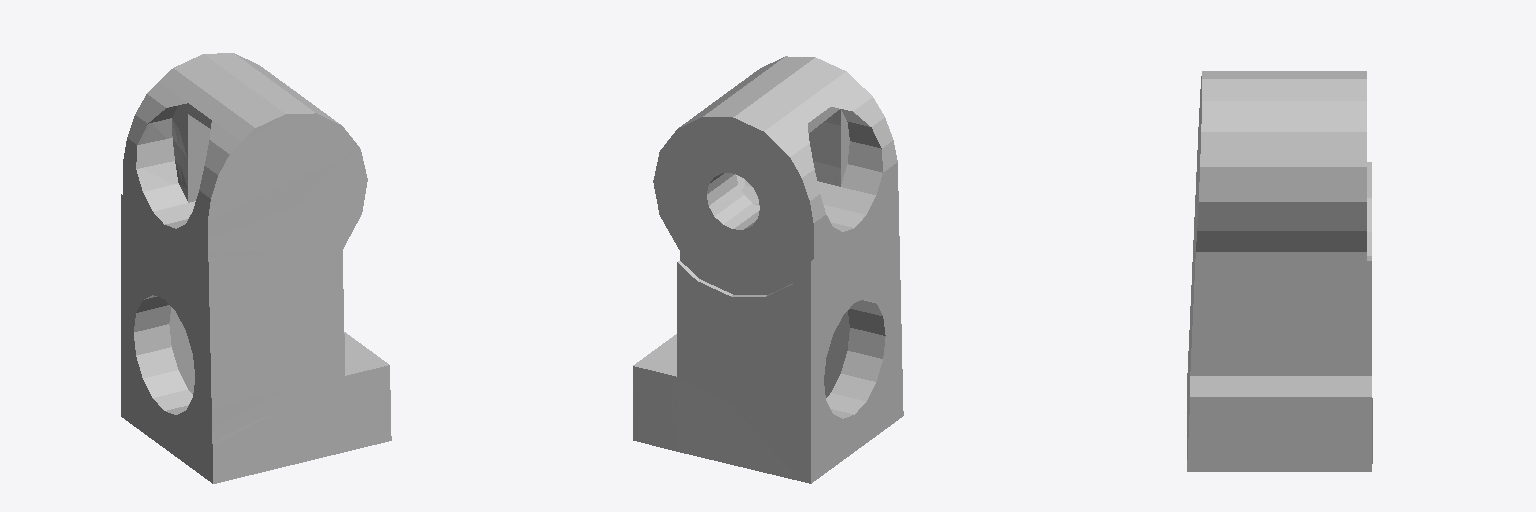
The model's file is rPie.obj.
3 views of the same model, side by side, from view 1: azimuth 30°, elevation 25°; view 2: azimuth 150°, elevation 25°; view 3: azimuth 270°, elevation 25° (orthographic).
Parts seen in each view (by area): view 1: rPie4:pasted__pasted__lleg16pasted__pasted__legocharacter2pasted; view 2: rPie4:pasted__pasted__lleg16pasted__pasted__legocharacter2pasted; view 3: rPie4:pasted__pasted__lleg16pasted__pasted__legocharacter2pasted.
Part boxes in pixels (x1,y1,x2,y2): rPie4:pasted__pasted__lleg16pasted__pasted__legocharacter2pasted: (121,53,391,483); rPie4:pasted__pasted__lleg16pasted__pasted__legocharacter2pasted: (633,56,903,483); rPie4:pasted__pasted__lleg16pasted__pasted__legocharacter2pasted: (1187,71,1372,471).
Size of the model in its own units: 0.7995 by 1.48 by 0.7228.